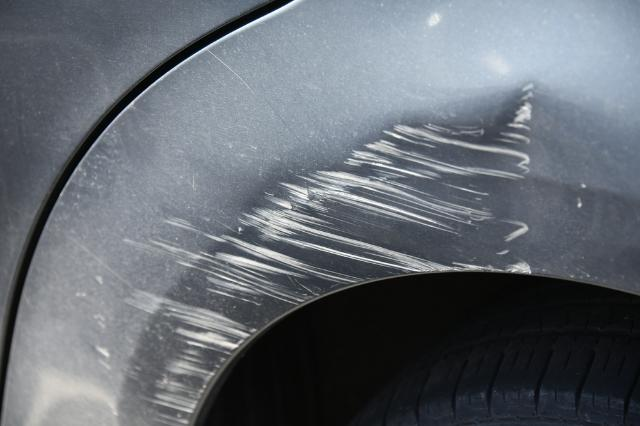dent: (370, 80, 613, 257)
rub: (127, 141, 536, 426)
